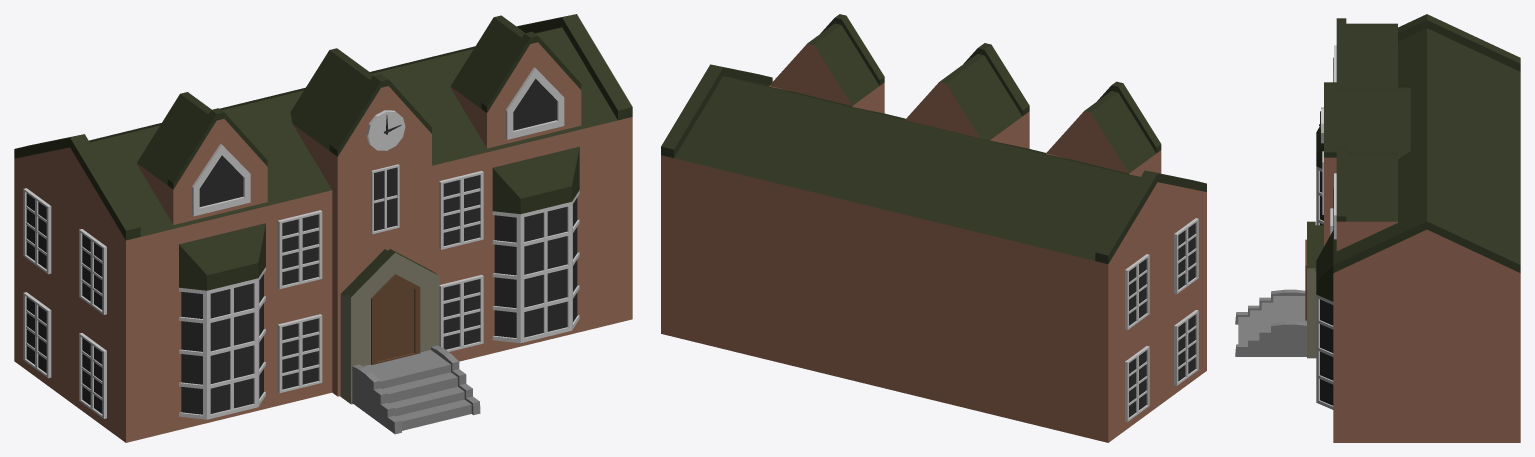
File: University_mat.fbx
3 renders of one model, left to right at view 1: azimuth 30°, elevation 25°; view 2: azimuth 150°, elevation 25°; view 3: azimuth 270°, elevation 25°, orthographic. The views are drawn at different scales.
Parts seen in each view (by area): view 1: University_mat; view 2: University_mat; view 3: University_mat.
Part boxes in pixels (<box>): University_mat: <box>14,14,632,442</box>; University_mat: <box>661,14,1206,442</box>; University_mat: <box>1235,14,1520,442</box>.
Size of the model in its own units: 1303 by 742 by 748.
